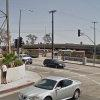Car: (18, 67, 81, 100)
